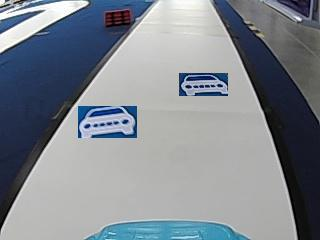bomb: (104, 7, 131, 25)
